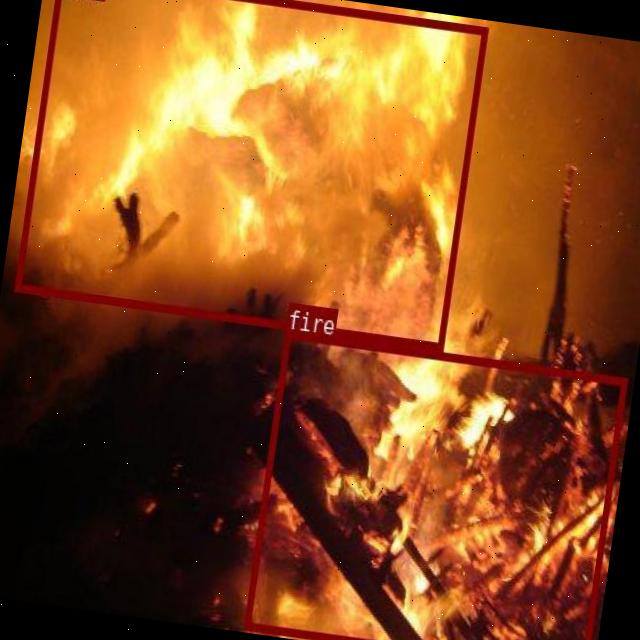fire: (13, 0, 486, 350), (243, 328, 627, 640)
